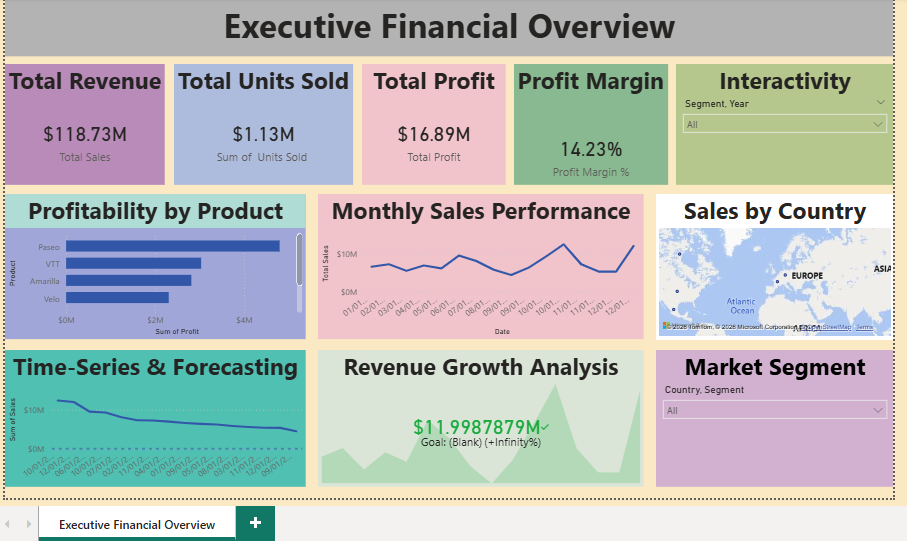

This screenshot's page, from the dashboard's own definition file:
{"tool":"powerbi","page":{"name":"Page 1","canvas":[1280,720],"ordinal":0},"visuals":[{"type":"textbox","box":[0,0,1278.7,86.4],"z":0},{"type":"card","title":"Total Revenue","fields":{"Values":["Financials.Total Sales"]},"box":[0,97.4,275.5,174.7],"z":1000},{"type":"slicer","title":"Market Segment","fields":{"Values":["Financials.Country","Financials.Segment"]},"box":[1012.3,506.9,267.8,213.1],"z":2000},{"type":"lineChart","title":"Monthly Sales Performance","fields":{"Category":["Financials.Date.Variation.Date Hierarchy.Year"],"Y":["Financials.Total Sales"]},"box":[389.7,285.6,307.4,204.9],"z":3000},{"type":"clusteredBarChart","title":"Profitability by Product","fields":{"Category":["Financials. Product "],"Y":["Sum(Financials. Profit )"]},"box":[0,285.6,378,204.9],"z":4000},{"type":"card","title":"Total Profit","fields":{"Values":["Financials.Total Profit"]},"box":[593,97.4,344.4,174.7],"z":5000},{"type":"card","title":"Total Units Sold","fields":{"Values":["Sum(Financials. Units Sold )"]},"box":[288.9,97.4,290.6,174.7],"z":6000},{"type":"card","title":"Profit Margin ","fields":{"Values":["Financials.Profit Margin %"]},"box":[952.4,97.4,327.6,174.7],"z":7000},{"type":"map","title":"Sales by Country","fields":{"Category":["Financials.Country"]},"box":[710.6,285.6,283.9,208.3],"z":8000},{"type":"slicer","title":"Interactivity","fields":{"Values":["Financials.Segment","Financials.Year"]},"box":[1012.9,285.6,267.1,204.9],"z":9000},{"type":"lineChart","title":"Time-Series & Forecasting","fields":{"Y":["Sum(Financials.  Sales )"],"Category":["Financials.Date"]},"box":[0,506.9,542.9,213.1],"z":10000},{"type":"kpi","title":"Revenue Growth Analysis","fields":{"Indicator":["Financials.Total Sales"],"TrendLine":["Financials.Date"],"Goal":["Financials.PY Sales"]},"box":[564.5,506.9,429.1,213.1],"z":11000}]}

Visuals, with their boxes in screenshot pixels (x1, y1, x2, y2):
textbox: (left=0, top=17, right=891, bottom=77)
"Total Revenue" card: (left=0, top=85, right=190, bottom=207)
"Market Segment" slicer: (left=705, top=371, right=892, bottom=520)
"Monthly Sales Performance" lineChart: (left=270, top=216, right=485, bottom=359)
"Profitability by Product" clusteredBarChart: (left=0, top=216, right=262, bottom=359)
"Total Profit" card: (left=412, top=85, right=653, bottom=207)
"Total Units Sold" card: (left=200, top=85, right=403, bottom=207)
"Profit Margin " card: (left=663, top=85, right=892, bottom=207)
"Sales by Country" map: (left=494, top=216, right=693, bottom=362)
"Interactivity" slicer: (left=705, top=216, right=892, bottom=359)
"Time-Series & Forecasting" lineChart: (left=0, top=371, right=377, bottom=520)
"Revenue Growth Analysis" kpi: (left=392, top=371, right=692, bottom=520)
